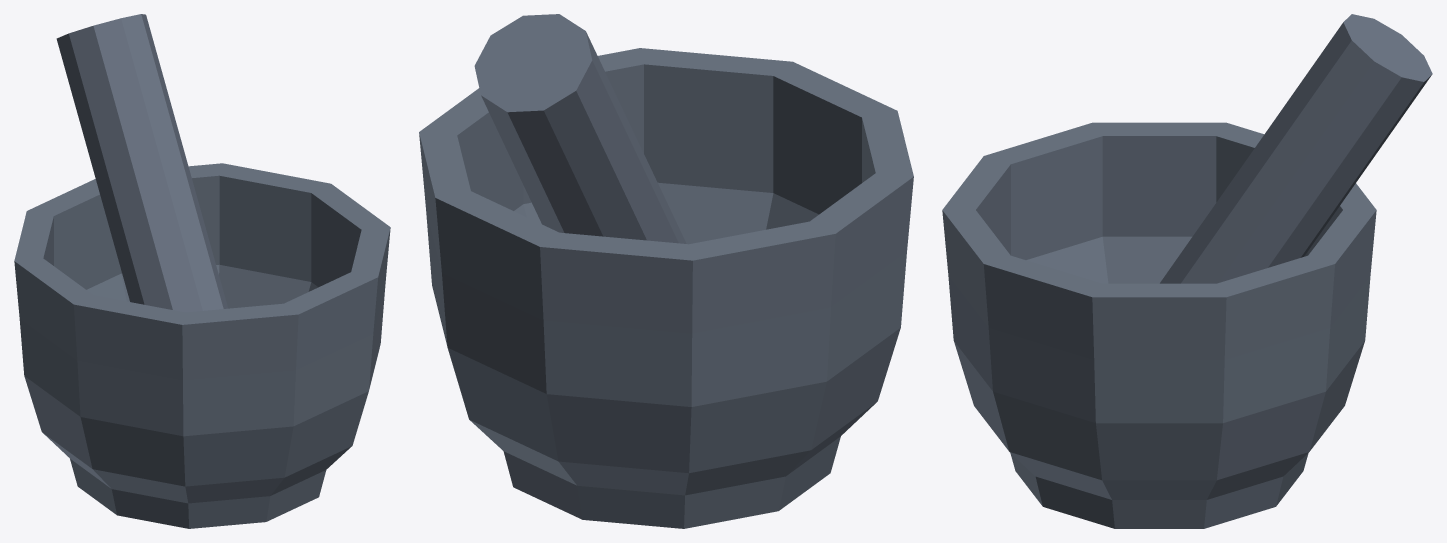
Rendered from Mortar&Pestle.fbx.
The picture shows the model from 3 angles, left to right: view 1: azimuth 30°, elevation 25°; view 2: azimuth 150°, elevation 25°; view 3: azimuth 270°, elevation 25°; orthographic projection. The views are drawn at different scales.
Visible parts, largest first — view 1: Mortar, Pestle; view 2: Mortar, Pestle; view 3: Mortar, Pestle.
Boxes of the visible parts, x1,y1,x2,y2 form: Mortar: (14,163,390,528); Pestle: (56,14,227,312); Mortar: (419,48,913,528); Pestle: (474,14,686,243); Mortar: (942,122,1376,528); Pestle: (1160,14,1432,283).
Bounding box in the file's own units: 287 × 344 × 340.
